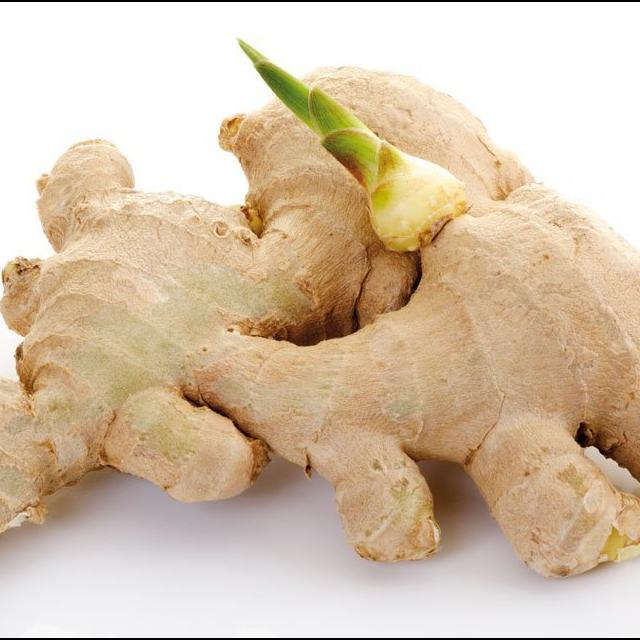ginger: (0, 77, 640, 567)
